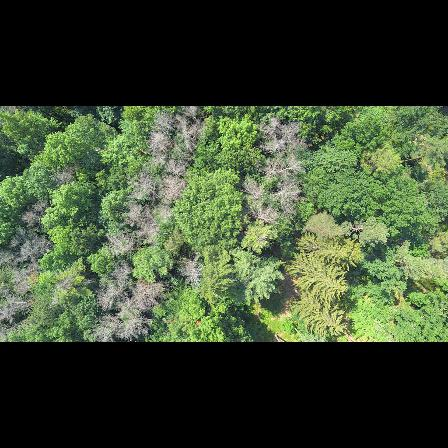Dead: (17, 232, 59, 266), (258, 121, 300, 154), (180, 248, 210, 292), (102, 315, 151, 341), (253, 155, 298, 183), (101, 265, 129, 310), (131, 281, 167, 311), (1, 290, 34, 320), (176, 112, 203, 148), (116, 204, 157, 226), (130, 170, 158, 201), (246, 203, 285, 224), (105, 233, 133, 262), (134, 222, 164, 248), (160, 176, 186, 204), (49, 164, 74, 187), (148, 131, 170, 156), (273, 186, 300, 203), (242, 182, 266, 200), (166, 158, 187, 175), (21, 211, 38, 230), (154, 116, 173, 133), (30, 199, 49, 214)
